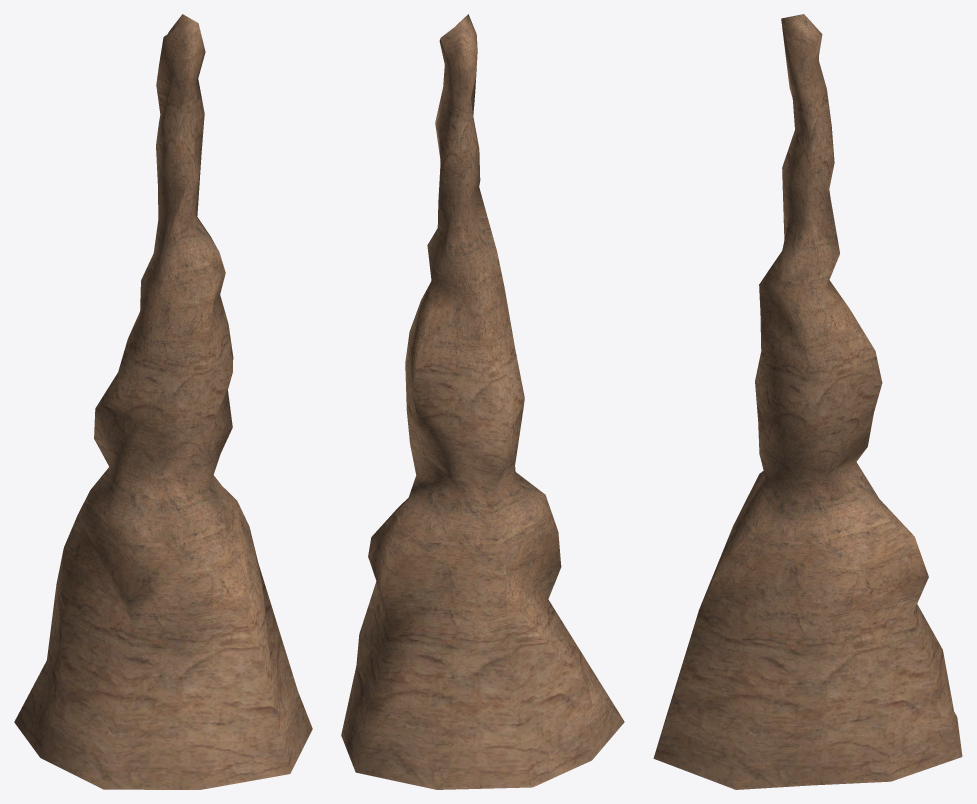
The model's file is rock_tatt_spire_skinny_a2_l1.fbx.
3 renders of one model, left to right at view 1: azimuth 30°, elevation 25°; view 2: azimuth 150°, elevation 25°; view 3: azimuth 270°, elevation 25°, orthographic. The views are drawn at different scales.
Visible parts, largest first — view 1: mesh_node; view 2: mesh_node; view 3: mesh_node.
Part boxes in pixels (bbox=[...]): mesh_node: bbox=[14, 14, 312, 789]; mesh_node: bbox=[341, 14, 624, 789]; mesh_node: bbox=[653, 14, 962, 789].
Size of the model in its own units: 26.19 by 76.39 by 29.39.
Materials: 1 (1 with a texture image).
